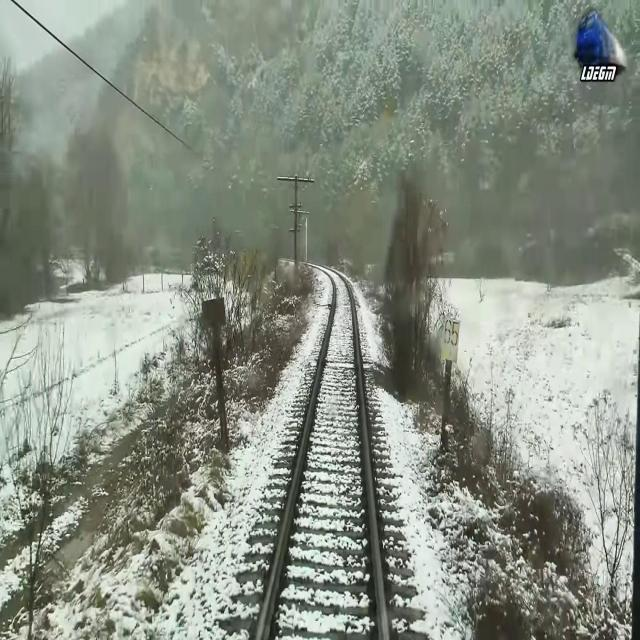rail-track: (261, 269, 383, 639)
